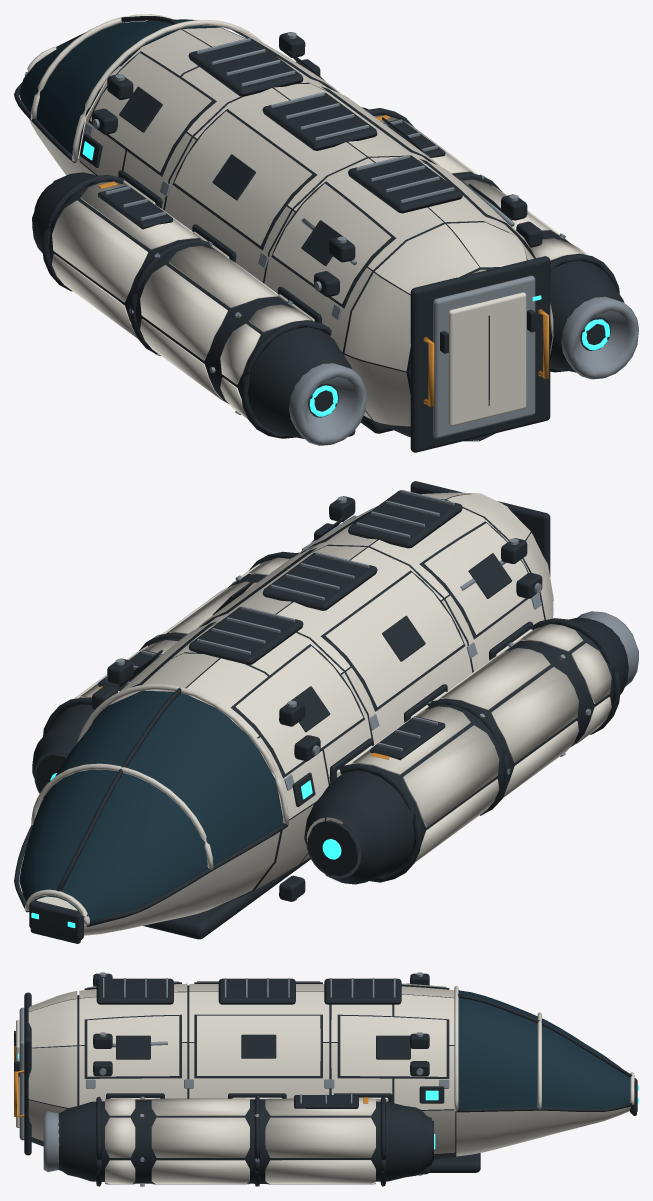
The model's file is spacecraft-exterior-lod2.glb.
3 renders of one model, top to bottom at view 1: azimuth 30°, elevation 25°; view 2: azimuth 150°, elevation 25°; view 3: azimuth 270°, elevation 25°, orthographic. The views are drawn at different scales.
Parts seen in each view (by area): view 1: Exterior_Hull_Ceramic_WarmWhite, Exterior_Hull_Structure_Graphite, Exterior_EnginePod_-1_Ceramic_WarmWhite, Exterior_EnginePod_-1_Structure_Graphite, Door_Outer, Exterior_Hull_Brushed_Titanium, Canopy_Glass, Exterior_EnginePod_1_Structure_Graphite, Exterior_EnginePod_-1_Brushed_Titanium, Exterior_EnginePod_1_Brushed_Titanium, Exterior_EnginePod_1_Ceramic_WarmWhite, Exterior_Hull_Maintenance_Amber; view 2: Exterior_Hull_Ceramic_WarmWhite, Canopy_Glass, Exterior_Hull_Structure_Graphite, Exterior_EnginePod_-1_Ceramic_WarmWhite, Exterior_EnginePod_-1_Structure_Graphite, Exterior_EnginePod_1_Structure_Graphite, Exterior_Hull_Brushed_Titanium, Exterior_EnginePod_1_Ceramic_WarmWhite, Exterior_EnginePod_-1_Brushed_Titanium; view 3: Exterior_Hull_Ceramic_WarmWhite, Exterior_Hull_Structure_Graphite, Exterior_EnginePod_1_Ceramic_WarmWhite, Canopy_Glass, Exterior_EnginePod_1_Structure_Graphite, Exterior_Hull_Brushed_Titanium, Exterior_EnginePod_1_Brushed_Titanium.
Part boxes in pixels (bbox=[...]): Exterior_Hull_Ceramic_WarmWhite: bbox=[24, 14, 553, 426]; Exterior_Hull_Structure_Graphite: bbox=[14, 16, 552, 452]; Exterior_EnginePod_-1_Ceramic_WarmWhite: bbox=[52, 181, 314, 418]; Exterior_EnginePod_-1_Structure_Graphite: bbox=[32, 172, 351, 438]; Door_Outer: bbox=[448, 292, 526, 426]; Exterior_Hull_Brushed_Titanium: bbox=[83, 32, 539, 438]; Canopy_Glass: bbox=[19, 19, 245, 156]; Exterior_EnginePod_1_Structure_Graphite: bbox=[362, 107, 624, 372]; Exterior_EnginePod_-1_Brushed_Titanium: bbox=[105, 186, 366, 445]; Exterior_EnginePod_1_Brushed_Titanium: bbox=[384, 119, 638, 379]; Exterior_EnginePod_1_Ceramic_WarmWhite: bbox=[374, 115, 588, 273]; Exterior_Hull_Maintenance_Amber: bbox=[423, 309, 548, 406]; Exterior_Hull_Ceramic_WarmWhite: bbox=[24, 492, 553, 935]; Canopy_Glass: bbox=[19, 691, 283, 923]; Exterior_Hull_Structure_Graphite: bbox=[14, 481, 550, 943]; Exterior_EnginePod_-1_Ceramic_WarmWhite: bbox=[352, 624, 611, 862]; Exterior_EnginePod_-1_Structure_Graphite: bbox=[304, 617, 628, 884]; Exterior_EnginePod_1_Structure_Graphite: bbox=[32, 552, 298, 797]; Exterior_Hull_Brushed_Titanium: bbox=[94, 490, 541, 901]; Exterior_EnginePod_1_Ceramic_WarmWhite: bbox=[74, 557, 289, 698]; Exterior_EnginePod_-1_Brushed_Titanium: bbox=[377, 611, 638, 815]; Exterior_Hull_Ceramic_WarmWhite: bbox=[28, 981, 634, 1156]; Exterior_Hull_Structure_Graphite: bbox=[14, 973, 637, 1174]; Exterior_EnginePod_1_Ceramic_WarmWhite: bbox=[105, 1098, 375, 1184]; Canopy_Glass: bbox=[458, 990, 630, 1108]; Exterior_EnginePod_1_Structure_Graphite: bbox=[58, 1095, 433, 1186]; Exterior_Hull_Brushed_Titanium: bbox=[19, 972, 449, 1175]; Exterior_EnginePod_1_Brushed_Titanium: bbox=[43, 1094, 352, 1186].
Size of the model in its own units: 7.8 by 4.8 by 15.59.
